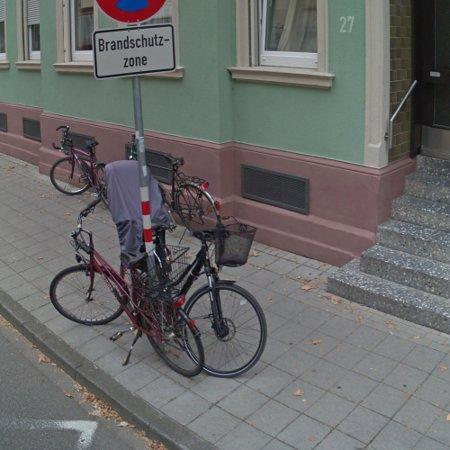stairs: (329, 156, 450, 333)
